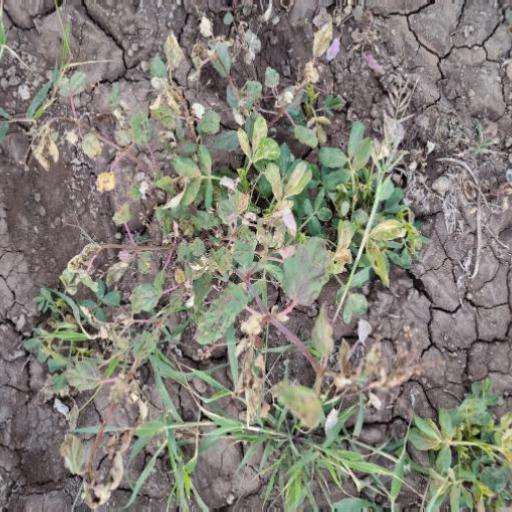weed: (76, 92, 418, 432)
